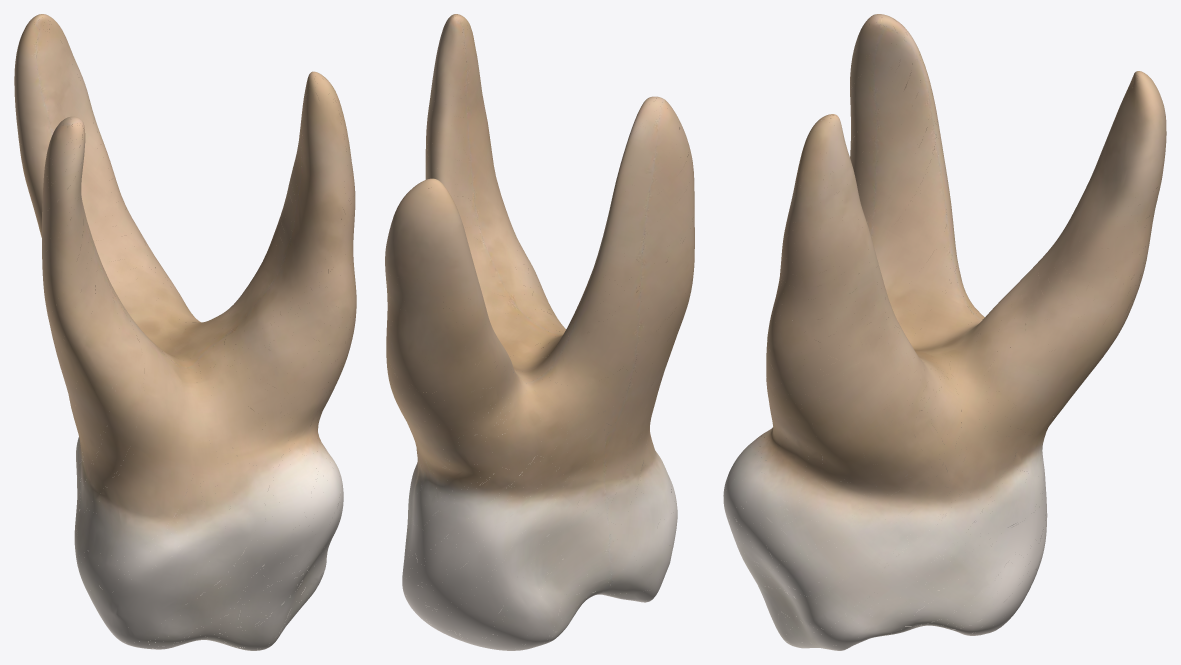
The picture shows the model from 3 angles, left to right: view 1: azimuth 30°, elevation 25°; view 2: azimuth 150°, elevation 25°; view 3: azimuth 270°, elevation 25°; orthographic projection. The views are drawn at different scales.
Visible parts, largest first — view 1: diente-54 (×6); view 2: diente-54 (×6); view 3: diente-54 (×6).
Boxes of the visible parts, <box> form: diente-54 (×6): <box>14,14,356,650</box>; diente-54 (×6): <box>385,14,694,650</box>; diente-54 (×6): <box>723,14,1166,650</box>.
Size of the model in its own units: 0.00806 by 0.0152 by 0.0108.
1 material, 1 textured.
